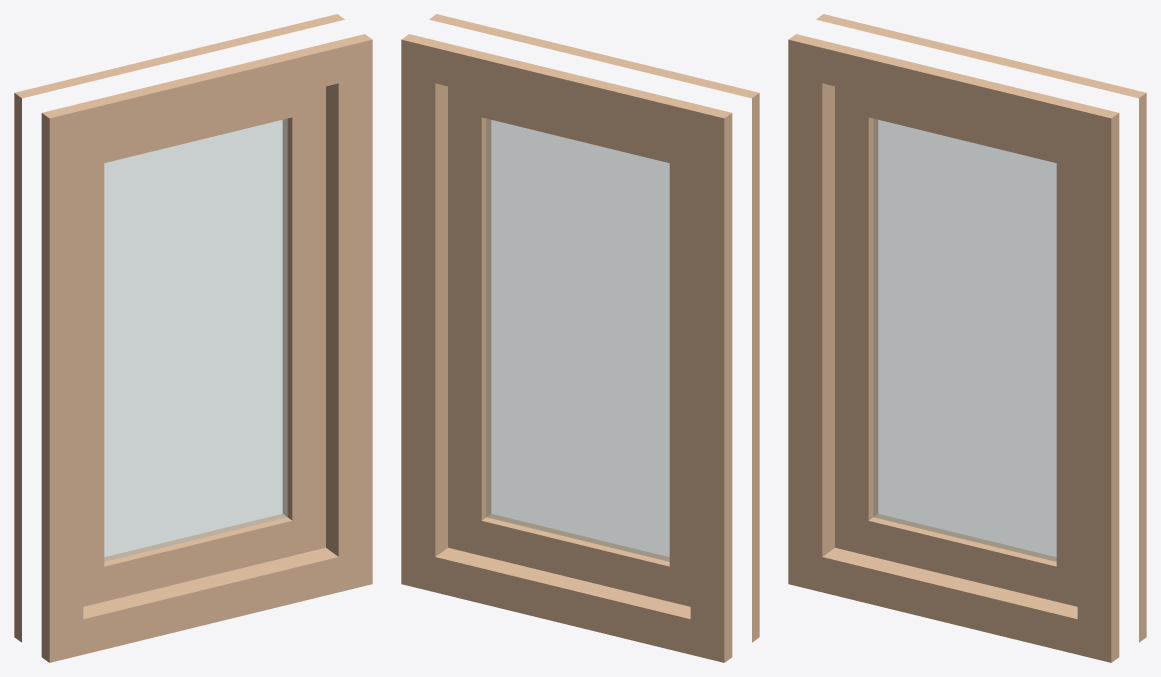
File: window_01.glb
The picture shows the model from 3 angles, left to right: view 1: azimuth 30°, elevation 25°; view 2: azimuth 150°, elevation 25°; view 3: azimuth 330°, elevation 25°; orthographic projection.
Visible parts, largest first — view 1: window, wallWindow(Clone); view 2: window, wallWindow(Clone); view 3: window, wallWindow(Clone).
Boxes of the visible parts, left/top/right/bottom form: window: left=83, top=86, right=325, bottom=606; wallWindow(Clone): left=14, top=14, right=372, bottom=662; window: left=448, top=86, right=690, bottom=606; wallWindow(Clone): left=401, top=14, right=759, bottom=662; window: left=835, top=86, right=1077, bottom=606; wallWindow(Clone): left=788, top=14, right=1146, bottom=662.
Bounding box in the file's own units: 0.474 × 0.7635 × 0.0891.
